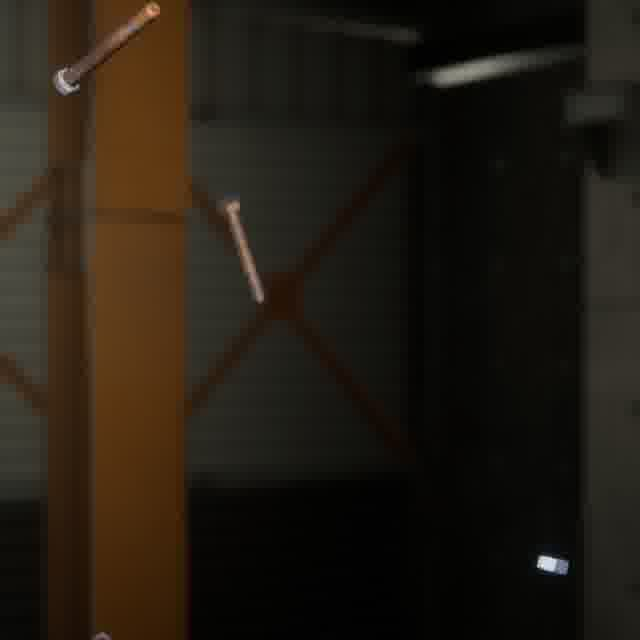bolt: (48, 0, 165, 100), (212, 191, 270, 306)
nut: (532, 550, 573, 579)
